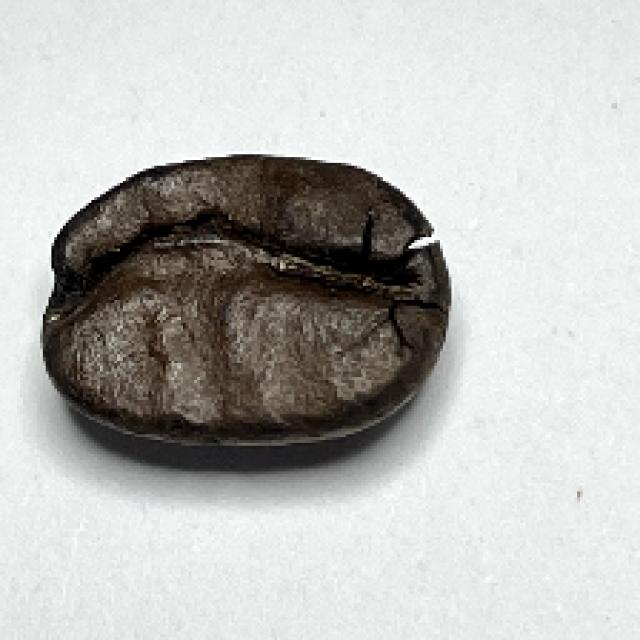bean: (32, 150, 456, 463)
